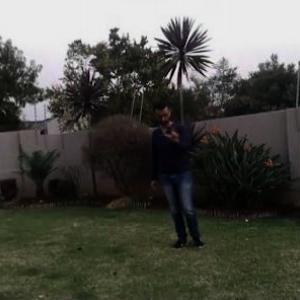land_hand: (160, 118, 185, 147)
